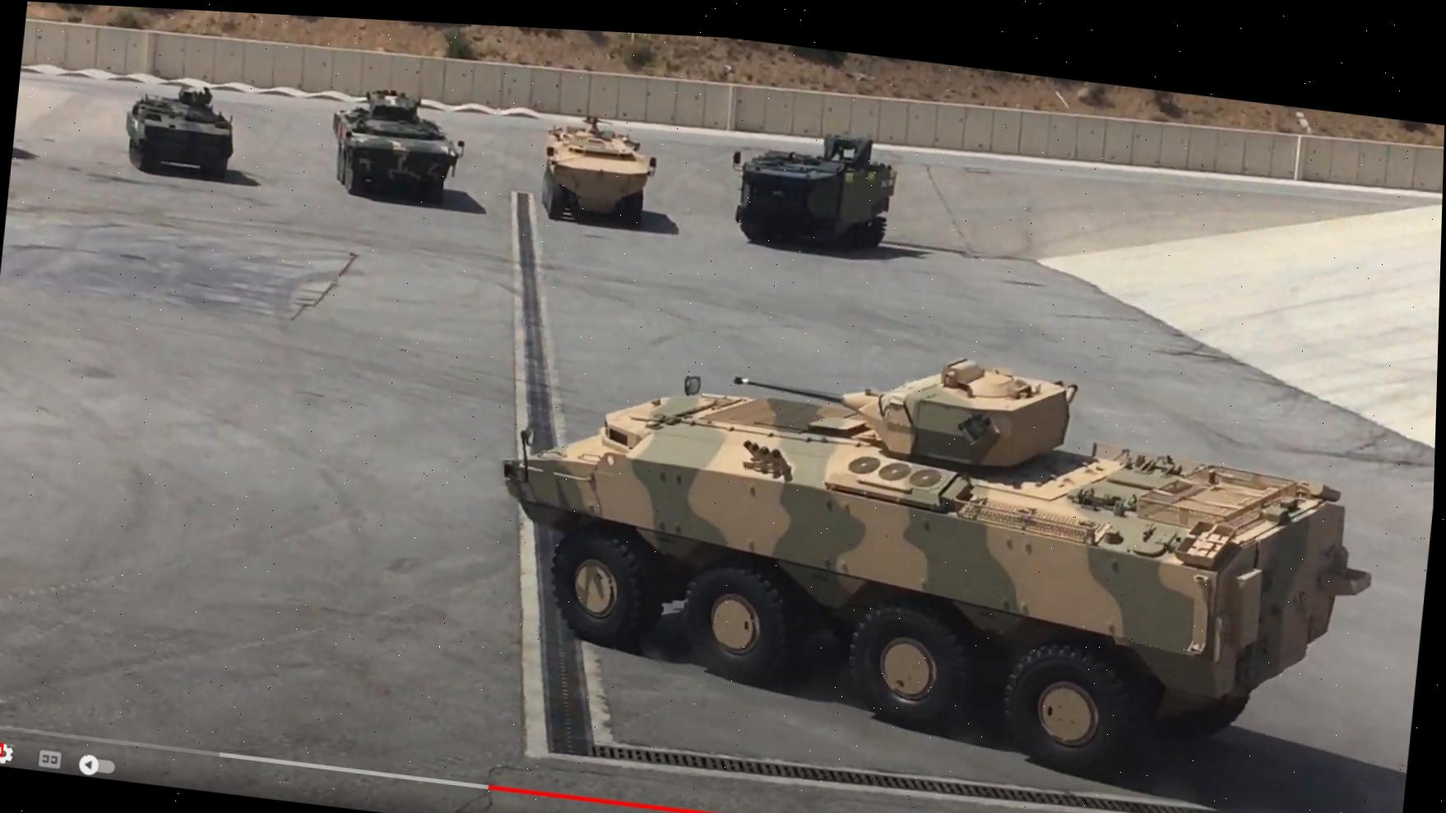armored_car: (473, 300, 1398, 810), (318, 60, 478, 220), (526, 107, 669, 235), (115, 67, 250, 188)
